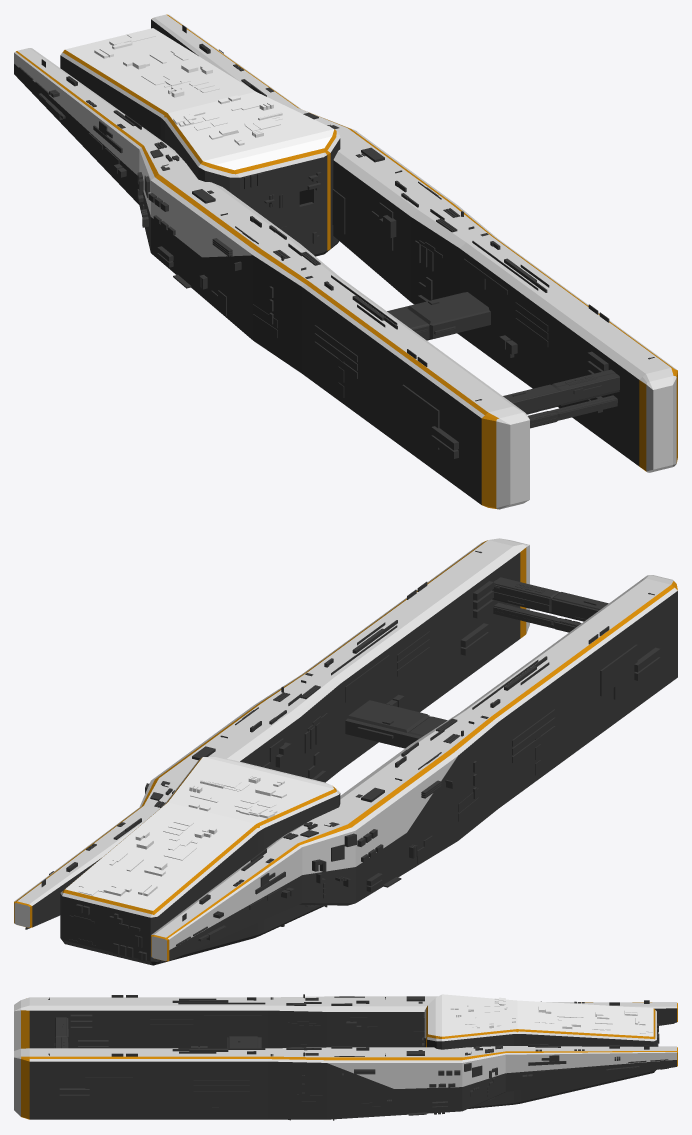
File: big_ship.obj
The picture shows the model from 3 angles, top to bottom: view 1: azimuth 30°, elevation 25°; view 2: azimuth 150°, elevation 25°; view 3: azimuth 270°, elevation 25°; orthographic projection. The views are drawn at different scales.
Parts seen in each view (by area): view 1: spaceship; view 2: spaceship; view 3: spaceship.
Part boxes in pixels (x1,y1,x2,y2): spaceship: (14, 14, 677, 509); spaceship: (14, 538, 677, 965); spaceship: (14, 994, 677, 1120).
Bounding box in the file's own units: 239 × 127 × 952.
Materials: 1 (1 with a texture image).
